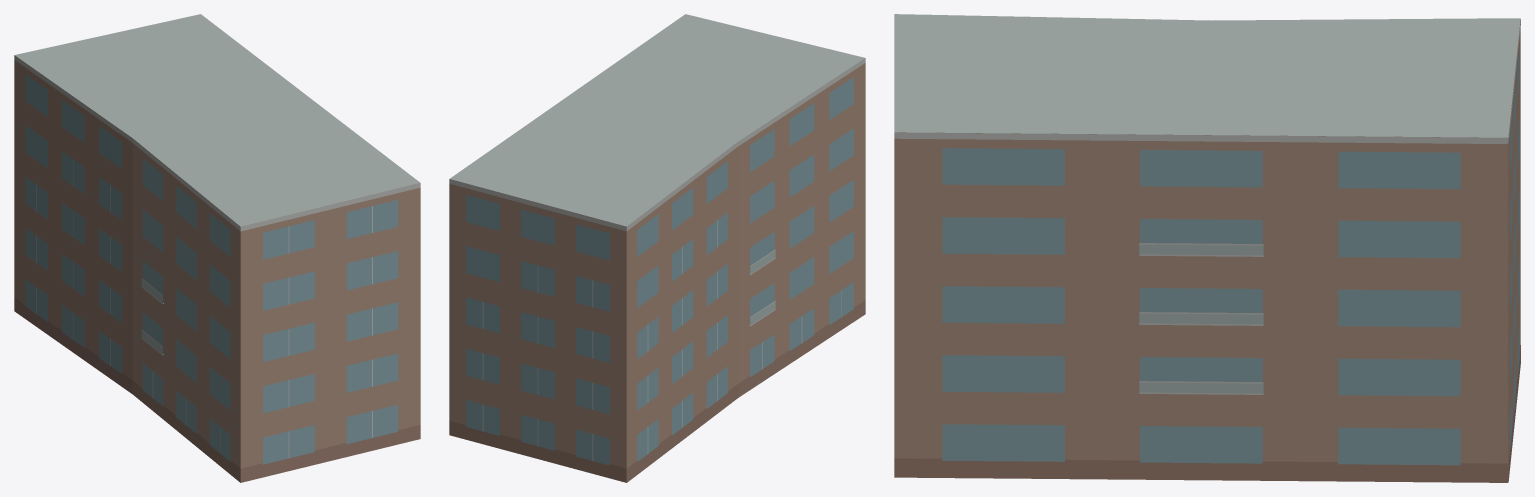
File: survey-upis-32944647.glb
3 views of the same model, side by side, from view 1: azimuth 30°, elevation 25°; view 2: azimuth 150°, elevation 25°; view 3: azimuth 270°, elevation 25° (orthographic). The views are drawn at different scales.
Parts seen in each view (by area): view 1: survey-upis-32944647.tmp; view 2: survey-upis-32944647.tmp; view 3: survey-upis-32944647.tmp.
Part boxes in pixels (x1,y1,x2,y2): survey-upis-32944647.tmp: (14, 14, 420, 482); survey-upis-32944647.tmp: (449, 14, 865, 482); survey-upis-32944647.tmp: (894, 14, 1520, 482).
Bounding box in the file's own units: 10.08 × 13.1 × 21.56.
